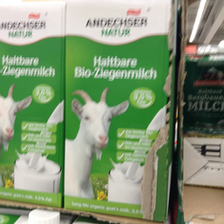milk: (65, 1, 176, 224), (1, 1, 65, 211)
